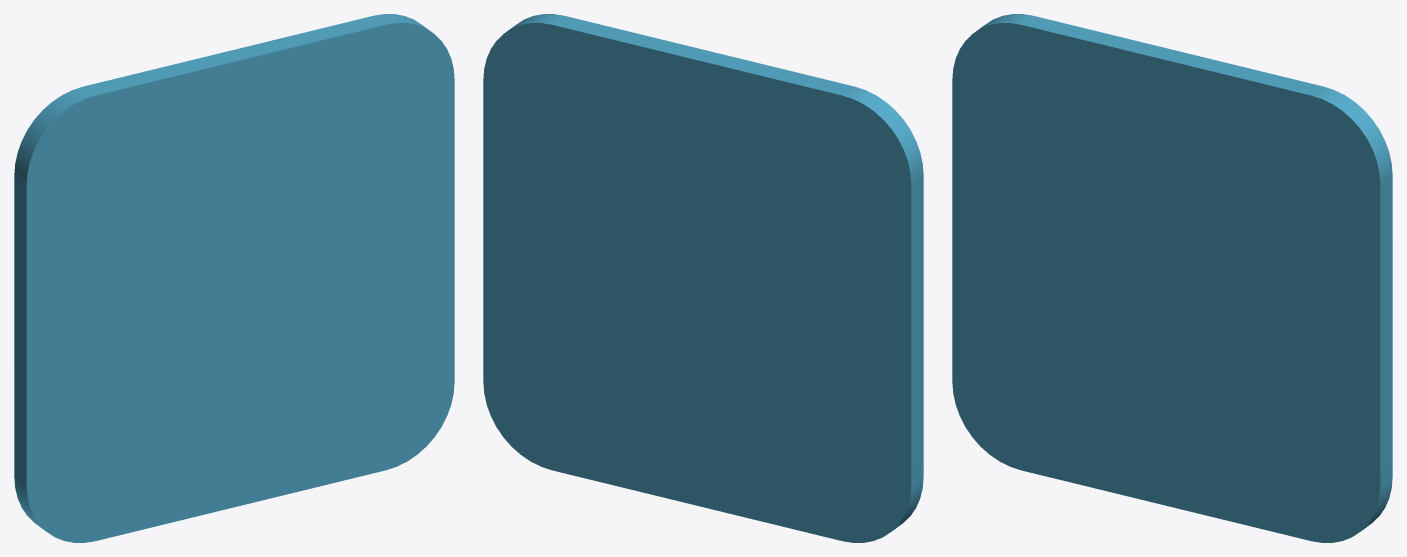
Rendered from gizmoMoveXY.fbx.
3 renders of one model, left to right at view 1: azimuth 30°, elevation 25°; view 2: azimuth 150°, elevation 25°; view 3: azimuth 330°, elevation 25°, orthographic.
Visible parts, largest first — view 1: gizmoMoveXY; view 2: gizmoMoveXY; view 3: gizmoMoveXY.
Boxes of the visible parts, <box> form: gizmoMoveXY: <box>14,14,454,542</box>; gizmoMoveXY: <box>483,14,923,542</box>; gizmoMoveXY: <box>952,14,1392,542</box>.
Bounding box in the file's own units: 6.05 × 6.01 × 0.3023.
Materials: 1 (1 with a texture image).
